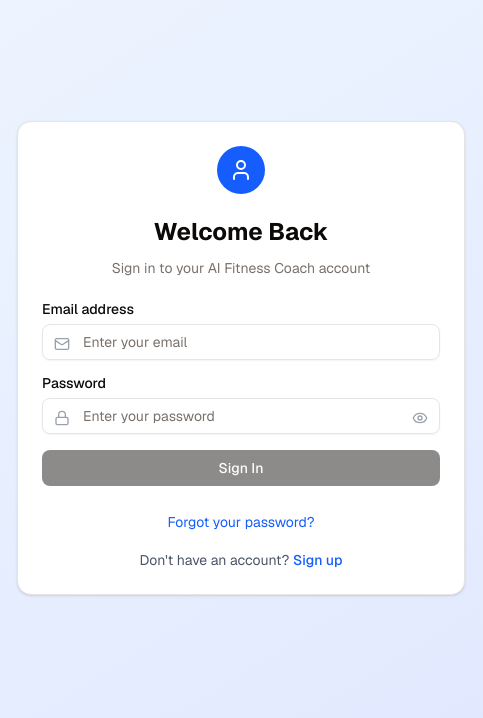
Test: LoginPage › Form Validation › validates password confirmation in signup mode
Switch to signup mode
Click the button "Sign up". click: (318, 560)
box: [293, 550, 342, 570]
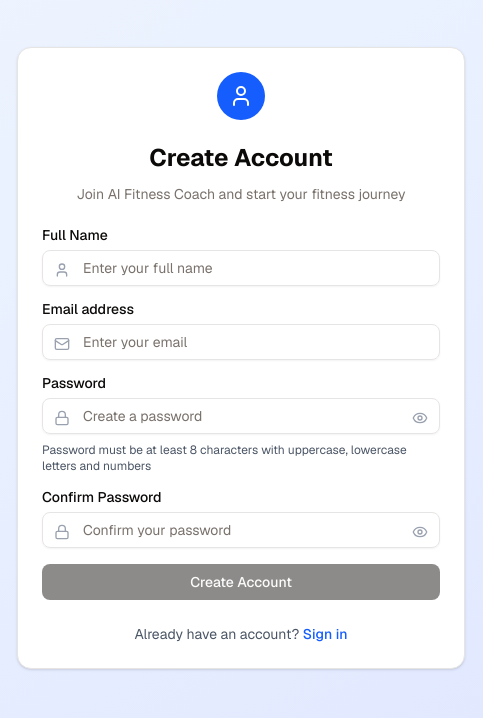
Fill in form with mismatched passwords
Type "John Doe" into the field labelled "Full Name". click: (241, 268)
box: [42, 250, 440, 286]
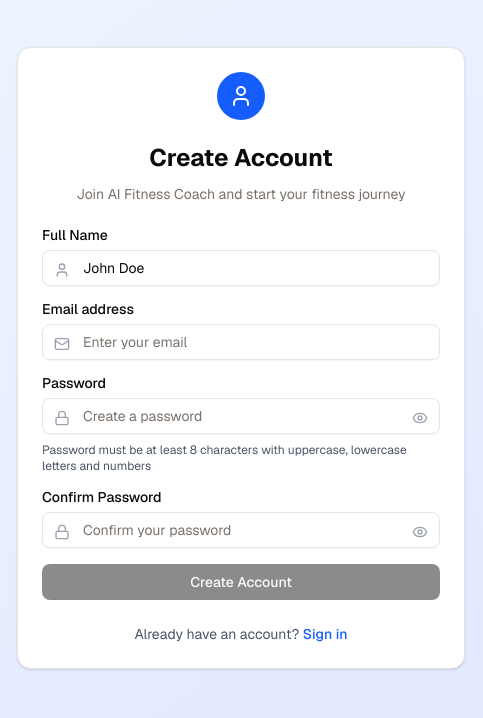
Type "test@example.com" into the field labelled "Email address". click: (241, 342)
box: [42, 324, 440, 360]
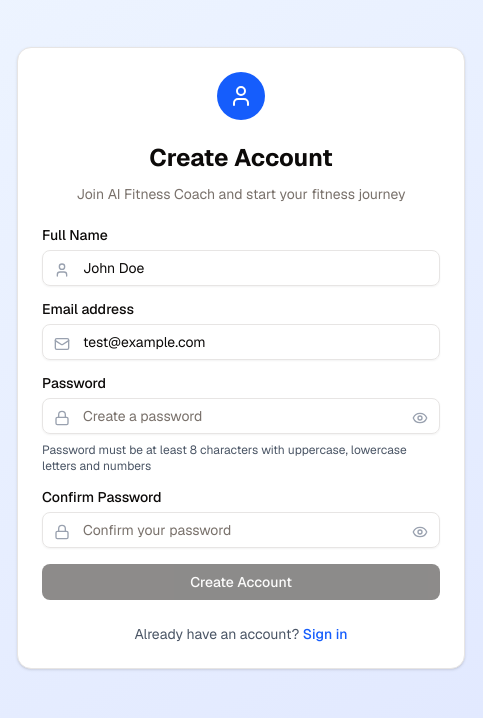
Type "Password123" into the password field labelled "Password". click: (241, 416)
box: [42, 398, 440, 434]
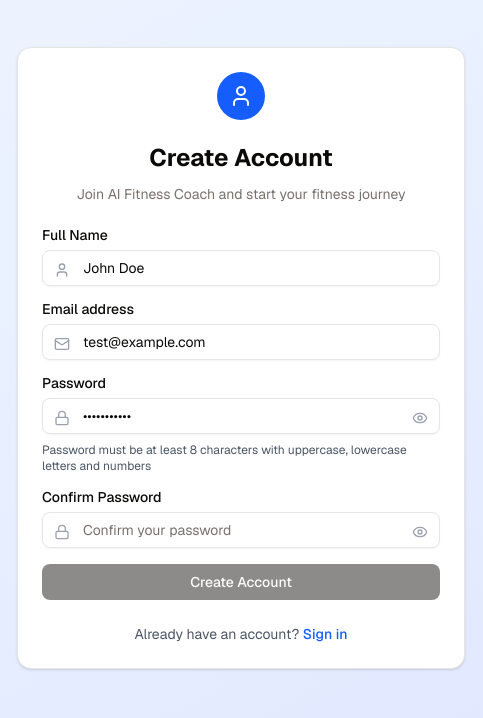
Type "DifferentPassword123" into the password field labelled "Confirm Password". click: (241, 530)
box: [42, 512, 440, 548]
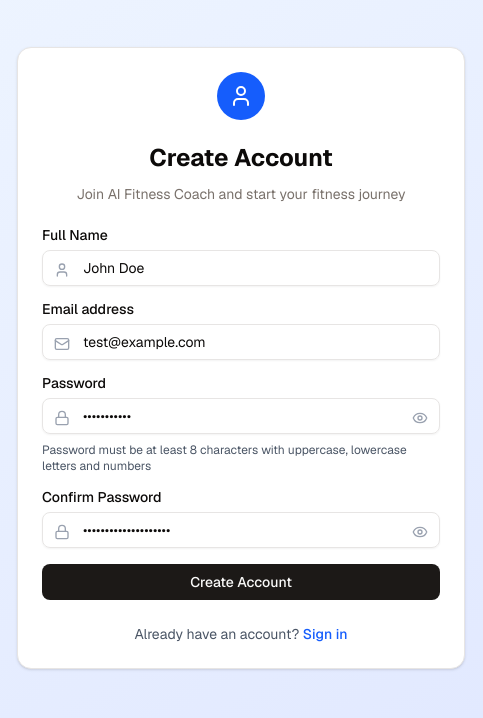
Click the button "Create Account". click: (241, 582)
box: [42, 564, 440, 600]
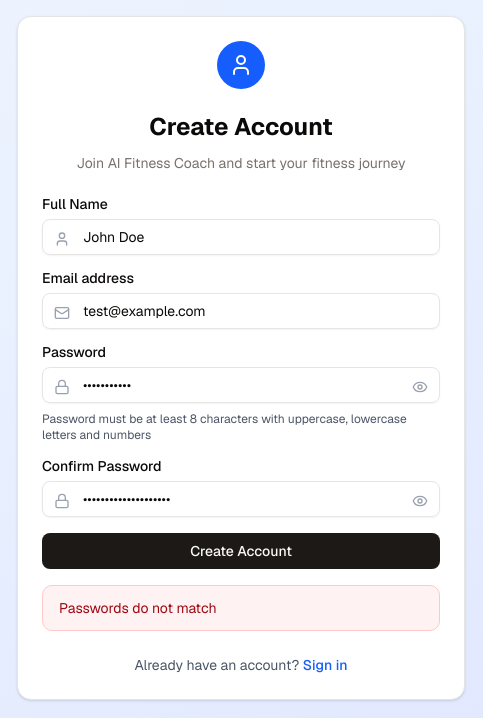
Expected: the text "Passwords do not match" is shown, [59, 599, 216, 617]
